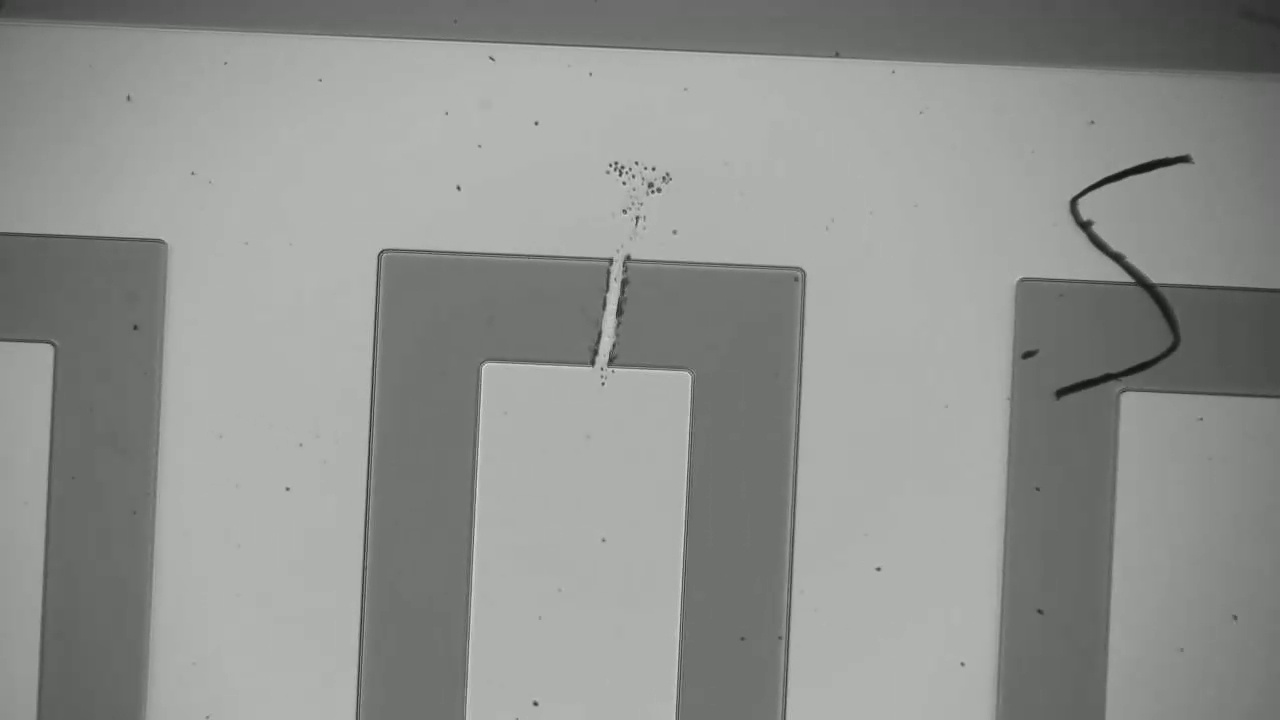Short_circuit: (561, 236, 650, 388)
